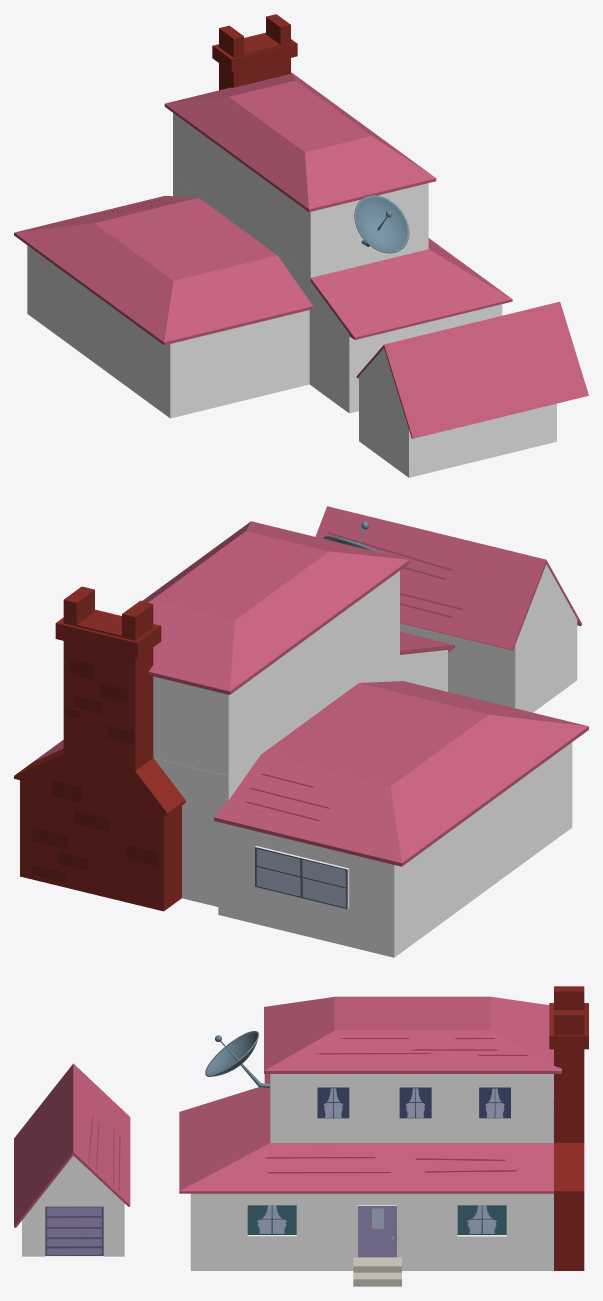
Rendered from CasaTimmy.obj.
3 views of the same model, one above another, from view 1: azimuth 30°, elevation 25°; view 2: azimuth 150°, elevation 25°; view 3: azimuth 270°, elevation 25° (orthographic). The views are drawn at different scales.
Parts seen in each view (by area): view 1: Casa_Cube.001, Cochera_Cube.005, TechoAtras_Cube.004, ParteAtrás_Cube.003, TechoCasa_Cube.002, Antena_Mesh; view 2: Casa_Cube.001, TechoAtras_Cube.004, ParteAtrás_Cube.003, Cochera_Cube.005, TechoCasa_Cube.002; view 3: Casa_Cube.001, TechoCasa_Cube.002, Cochera_Cube.005, Antena_Mesh, Escalones_Cube.009.
Boxes of the visible parts, left/top/right/bottom form: Casa_Cube.001: left=173, top=14, right=512, bottom=413; Cochera_Cube.005: left=356, top=301, right=588, bottom=477; TechoAtras_Cube.004: left=14, top=195, right=313, bottom=345; ParteAtrás_Cube.003: left=27, top=245, right=309, bottom=418; TechoCasa_Cube.002: left=164, top=72, right=436, bottom=212; Antena_Mesh: left=354, top=195, right=409, bottom=253; Casa_Cube.001: left=14, top=571, right=454, bottom=911; TechoAtras_Cube.004: left=214, top=681, right=588, bottom=866; ParteAtrás_Cube.003: left=218, top=742, right=572, bottom=957; Cochera_Cube.005: left=315, top=506, right=581, bottom=712; TechoCasa_Cube.002: left=142, top=521, right=409, bottom=694; Casa_Cube.001: left=179, top=986, right=588, bottom=1270; TechoCasa_Cube.002: left=264, top=996, right=561, bottom=1073; Cochera_Cube.005: left=14, top=1063, right=130, bottom=1256; Antena_Mesh: left=205, top=1031, right=270, bottom=1087; Escalones_Cube.009: left=353, top=1257, right=401, bottom=1286.
Bounding box in the file's own units: 102 × 67.65 × 148.
Materials: 11 (10 with a texture image).
